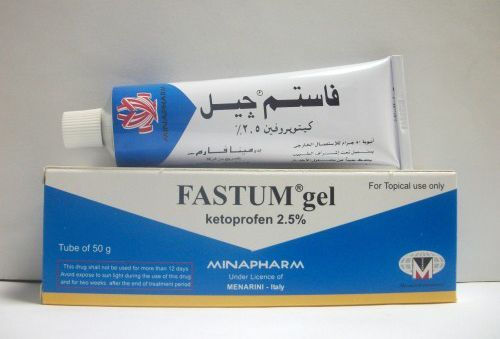Medicine: (41, 165, 460, 310), (57, 53, 423, 170)
